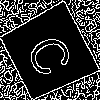C: (24, 27, 83, 81)
